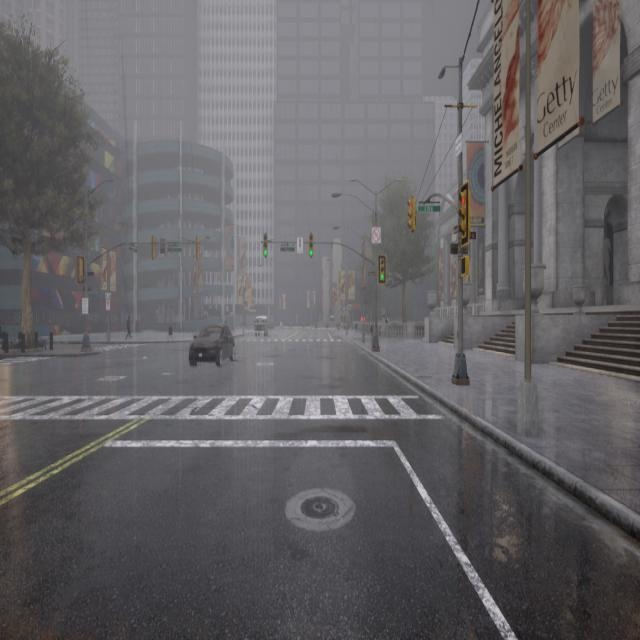bien_chi_dan: (452, 181, 477, 284), (404, 189, 419, 240), (258, 226, 274, 261), (304, 226, 318, 262), (376, 252, 389, 288), (456, 187, 472, 210), (370, 223, 382, 245), (406, 194, 416, 210), (260, 246, 272, 258), (306, 246, 316, 259), (378, 270, 388, 282)
